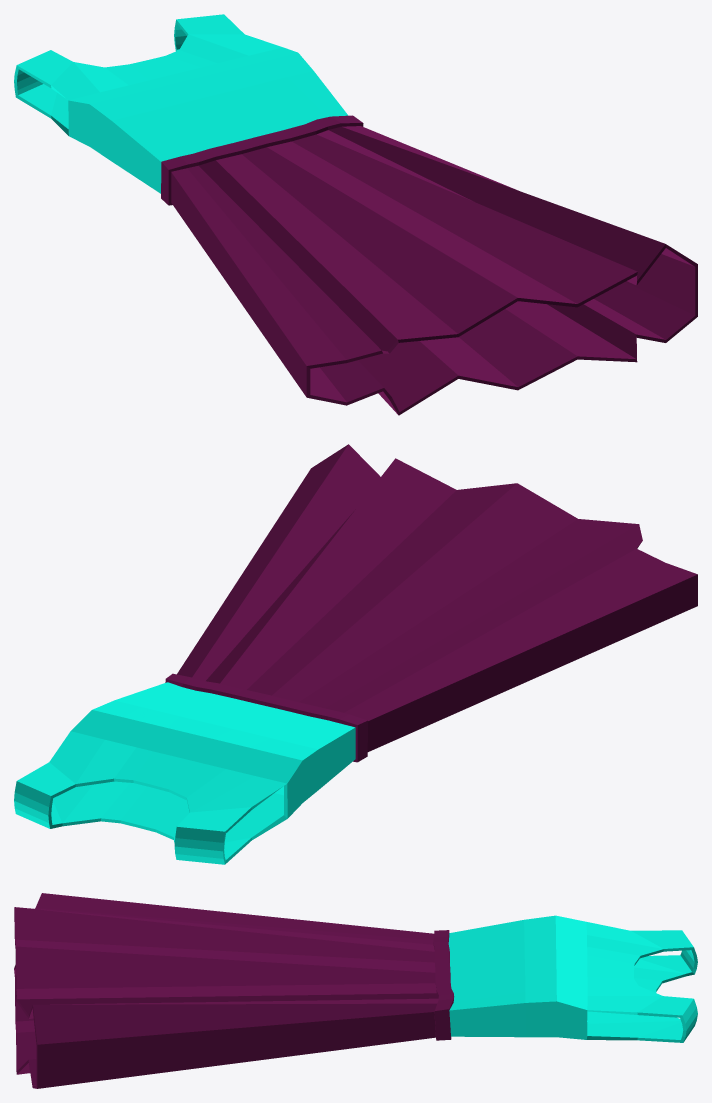
File: Dress.fbx
The picture shows the model from 3 angles, top to bottom: view 1: azimuth 30°, elevation 25°; view 2: azimuth 150°, elevation 25°; view 3: azimuth 270°, elevation 25°; orthographic projection. The views are drawn at different scales.
Parts seen in each view (by area): view 1: Node 0; view 2: Node 0; view 3: Node 0.
Boxes of the visible parts, box(x1,y1,x2,y2) form: Node 0: box(14, 14, 697, 415); Node 0: box(14, 444, 697, 864); Node 0: box(14, 893, 697, 1088).
Size of the model in its own units: 2.16 by 0.2994 by 1.19.
